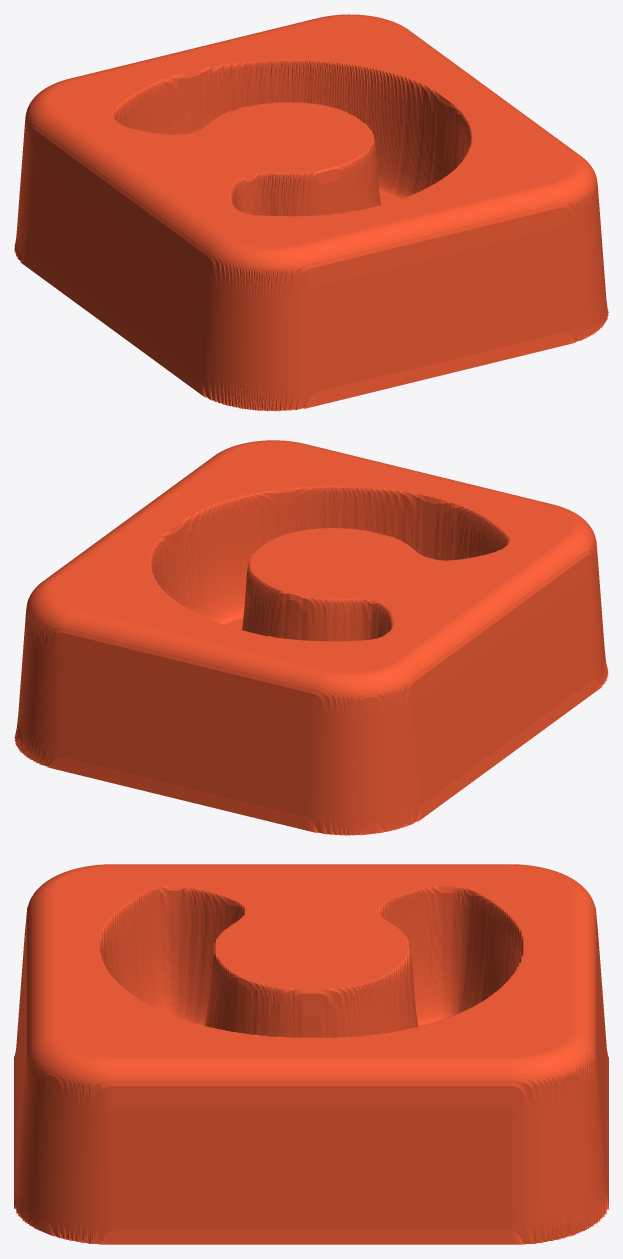
Rendered from mold.glb.
The picture shows the model from 3 angles, top to bottom: view 1: azimuth 30°, elevation 25°; view 2: azimuth 150°, elevation 25°; view 3: azimuth 270°, elevation 25°; orthographic projection. The views are drawn at different scales.
Parts seen in each view (by area): view 1: geometry_0; view 2: geometry_0; view 3: geometry_0.
Boxes of the visible parts, left/top/right/bottom form: geometry_0: left=14, top=14, right=608, bottom=411; geometry_0: left=14, top=440, right=608, bottom=835; geometry_0: left=14, top=864, right=608, bottom=1244.
Size of the model in its own units: 0.0482 by 0.0172 by 0.0542.
